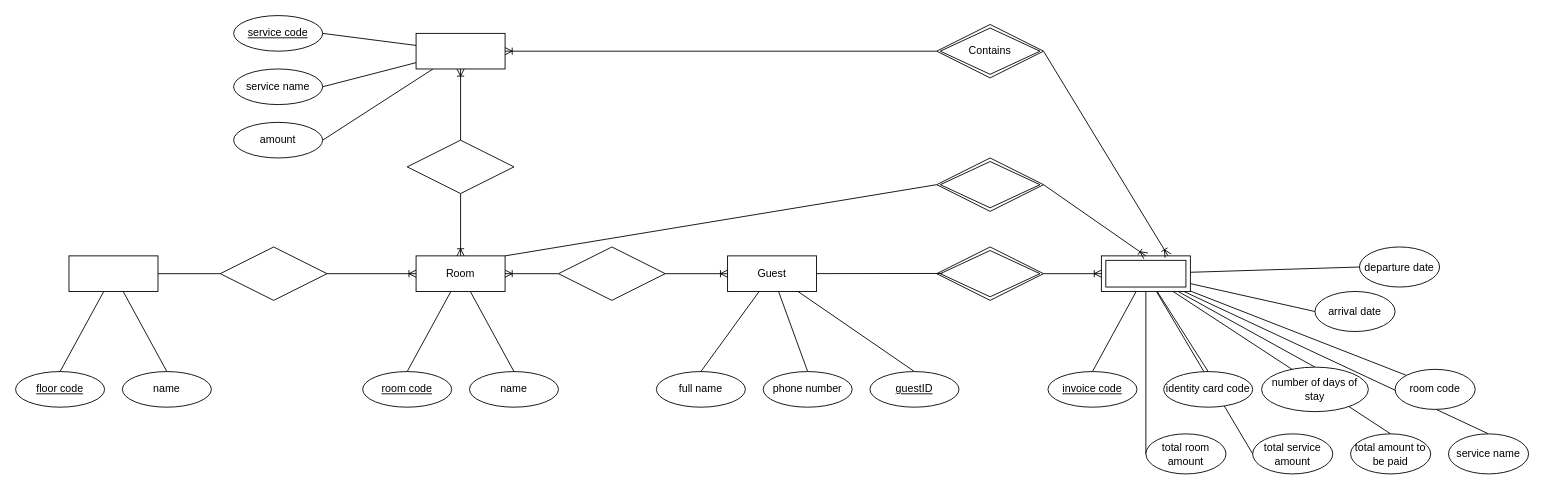
Image size: 1544x491. Some labels were removed from this diagram. The shapes that lost their labels are listed below. From the top down, each one's centre as x and y in pixels, then its label:
At pixel 460 50: "Service".
At pixel 460 166: "Provides".
At pixel 990 184: "For".
At pixel 113 273: "Floor".
At pixel 273 273: "Has".
At pixel 611 273: "Book".
At pixel 990 273: "Includes".
At pixel 1145 273: "Invoice".
